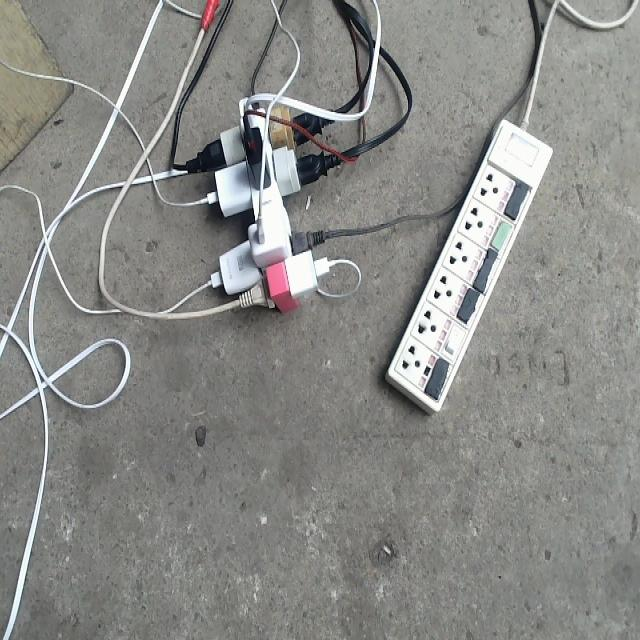-: (175, 92, 360, 311)
